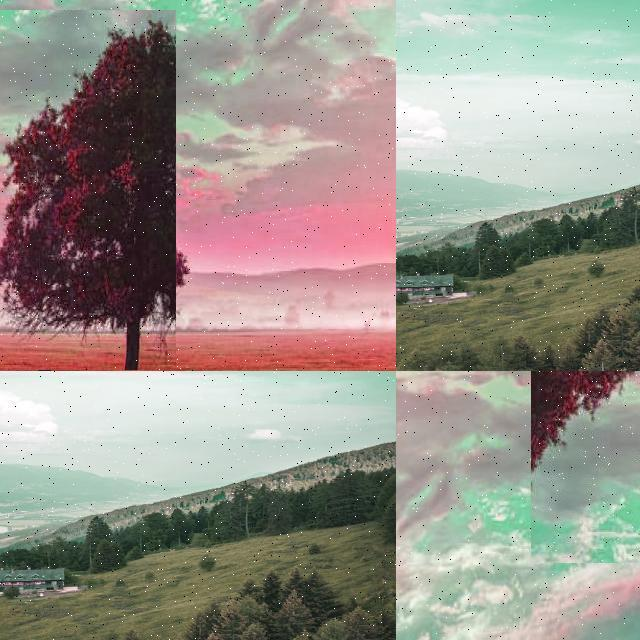tree: (0, 10, 176, 370), (531, 371, 640, 563), (271, 596, 325, 640), (382, 559, 396, 640), (260, 570, 286, 610), (396, 341, 418, 372)
